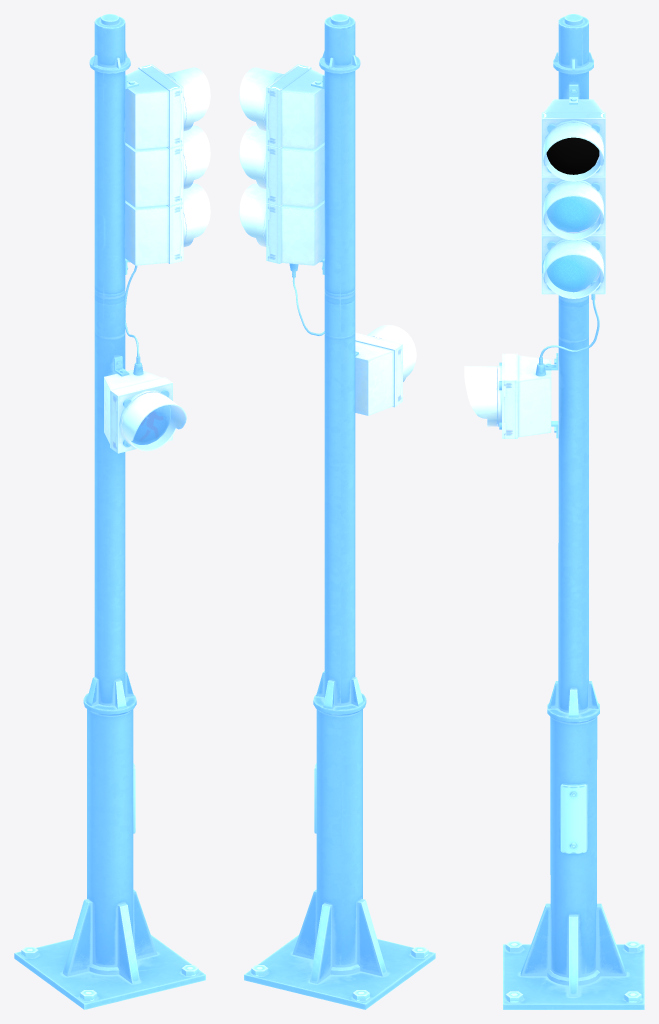
Rendered from trafficLight.glb.
The picture shows the model from 3 angles, left to right: view 1: azimuth 30°, elevation 25°; view 2: azimuth 150°, elevation 25°; view 3: azimuth 270°, elevation 25°; orthographic projection.
Visible parts, largest first — view 1: Cylinder.008, LightCube.003, Plane.004, LightCube.004, Cylinder.010, Cylinder.012, Cylinder.014; view 2: Cylinder.008, LightCube.003, Plane.004, LightCube.004, Cylinder.010, Cylinder.012, Cylinder.014; view 3: Cylinder.008, LightCube.003, LightCube.004, Plane.004, Cylinder.012, Cylinder.013, red, green, yellow, Cylinder.010, Cylinder.014.
Part boxes in pixels (box(x1,y1,x2,y2)): Cylinder.008: box(83, 14, 136, 974); LightCube.003: box(125, 64, 210, 265); Plane.004: box(14, 935, 205, 1009); LightCube.004: box(104, 369, 186, 453); Cylinder.010: box(63, 889, 157, 976); Cylinder.012: box(117, 903, 139, 983); Cylinder.014: box(21, 947, 198, 1000); Cylinder.008: box(313, 14, 366, 974); LightCube.003: box(239, 64, 324, 265); Plane.004: box(244, 935, 435, 1009); LightCube.004: box(355, 324, 416, 415); Cylinder.010: box(292, 889, 386, 976); Cylinder.012: box(310, 903, 332, 983); Cylinder.014: box(251, 947, 428, 1000); Cylinder.008: box(547, 14, 600, 985); LightCube.003: box(541, 99, 605, 298); LightCube.004: box(464, 353, 551, 438); Plane.004: box(503, 944, 644, 1009); Cylinder.012: box(520, 903, 626, 976); Cylinder.013: box(560, 784, 586, 853); red: box(546, 137, 599, 174); green: box(542, 255, 596, 292); yellow: box(546, 196, 599, 231); Cylinder.010: box(569, 915, 578, 996); Cylinder.014: box(505, 941, 641, 1002).
Size of the model in its own units: 0.7502 by 4.53 by 0.7693.
2 materials, 1 textured.
